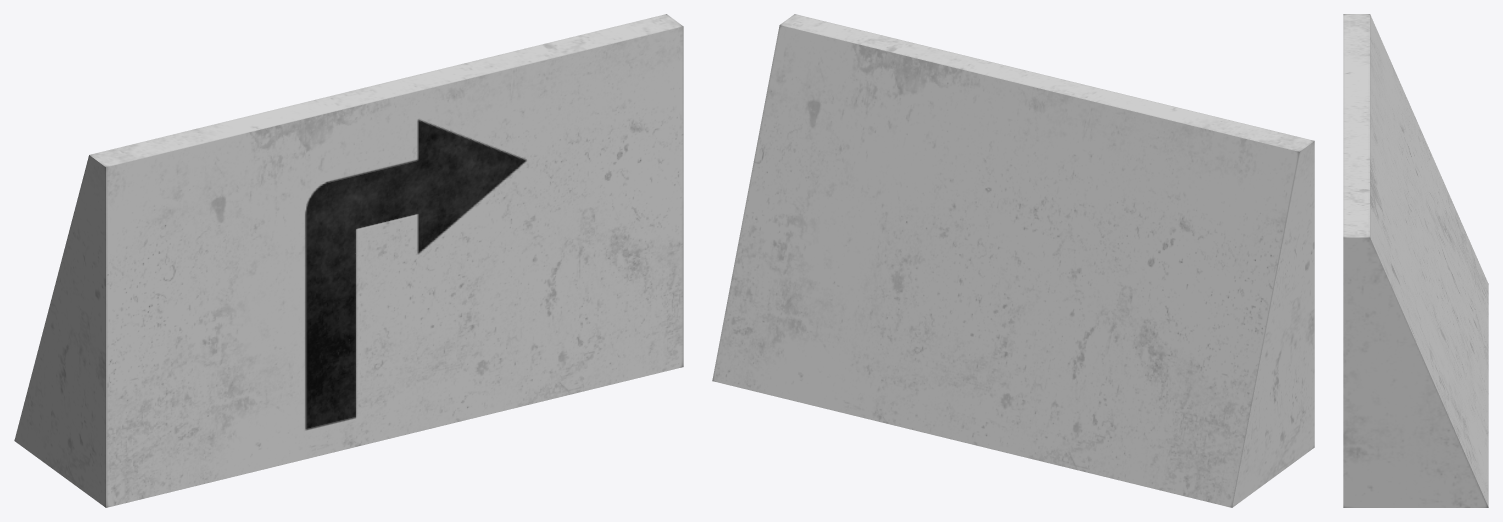
File: Turing Direction INDICATOR.fbx
3 renders of one model, left to right at view 1: azimuth 30°, elevation 25°; view 2: azimuth 150°, elevation 25°; view 3: azimuth 270°, elevation 25°, orthographic. The views are drawn at different scales.
Visible parts, largest first — view 1: TURNIG DIRECTION; view 2: TURNIG DIRECTION; view 3: TURNIG DIRECTION.
Part boxes in pixels (x1,y1,x2,y2): TURNIG DIRECTION: (14, 14, 683, 507); TURNIG DIRECTION: (712, 14, 1314, 507); TURNIG DIRECTION: (1343, 14, 1488, 507).
Size of the model in its own units: 350 by 197 by 96.28.
Materials: 1 (1 with a texture image).
